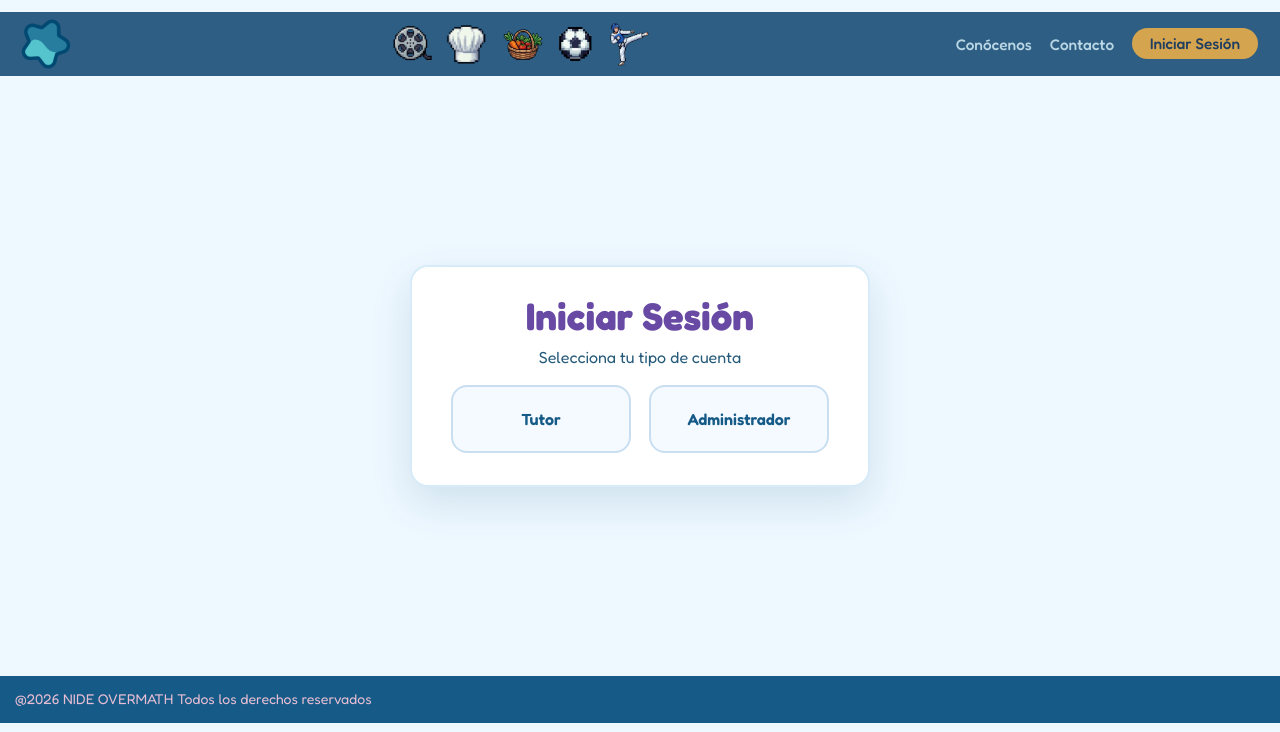
LoginPage › muestra el picker de rol y al elegir "Tutor" muestra el formulario
Expected: the heading "Iniciar Sesión" is shown, [526, 293, 754, 339]
Expected: the button "Administrador" is shown, [649, 385, 829, 453]
Click the button "Tutor" at [541, 419], box [451, 385, 631, 453]
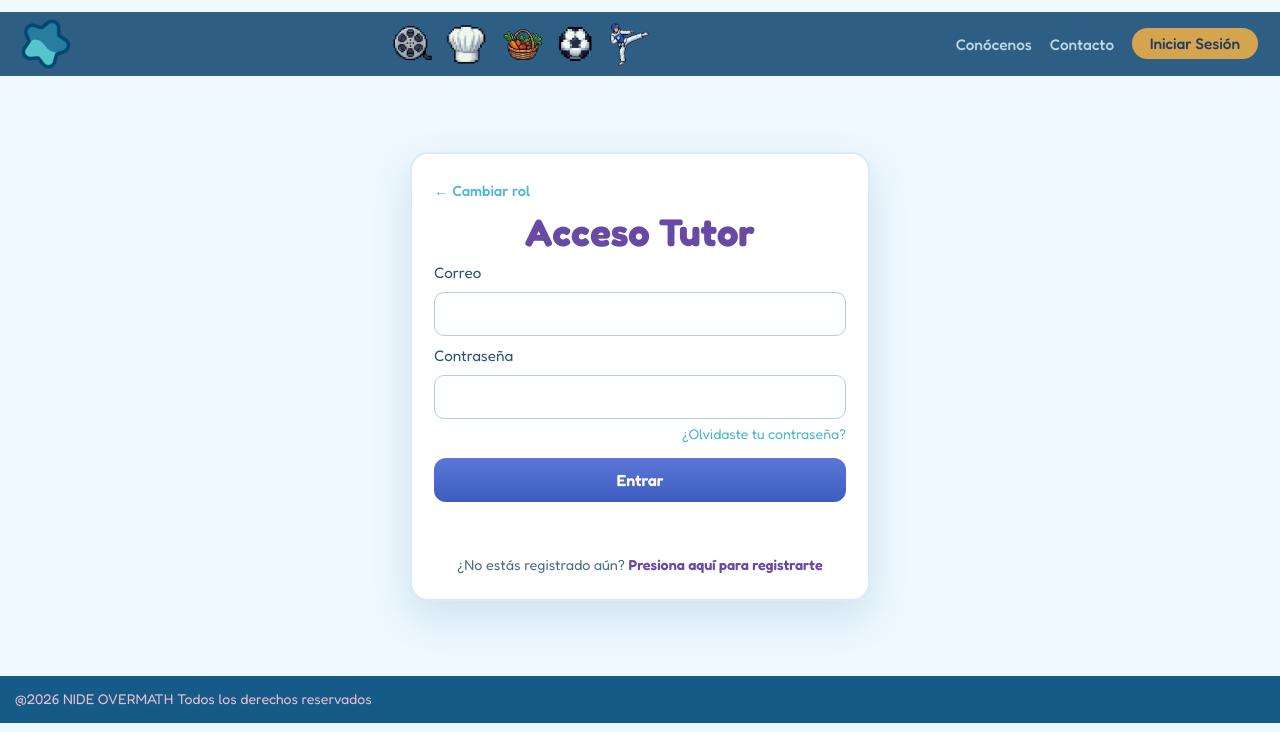
Now the heading "Acceso Tutor" is shown, box [525, 208, 755, 254]
Now the field labelled "Correo" is shown, box [434, 292, 846, 336]
Now the password field labelled "Contraseña" is shown, box [434, 374, 846, 418]
